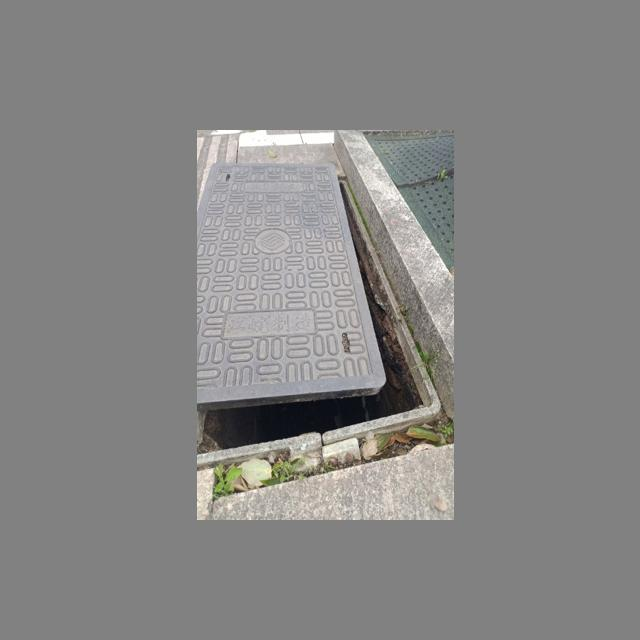uncovered: (197, 160, 442, 467)
